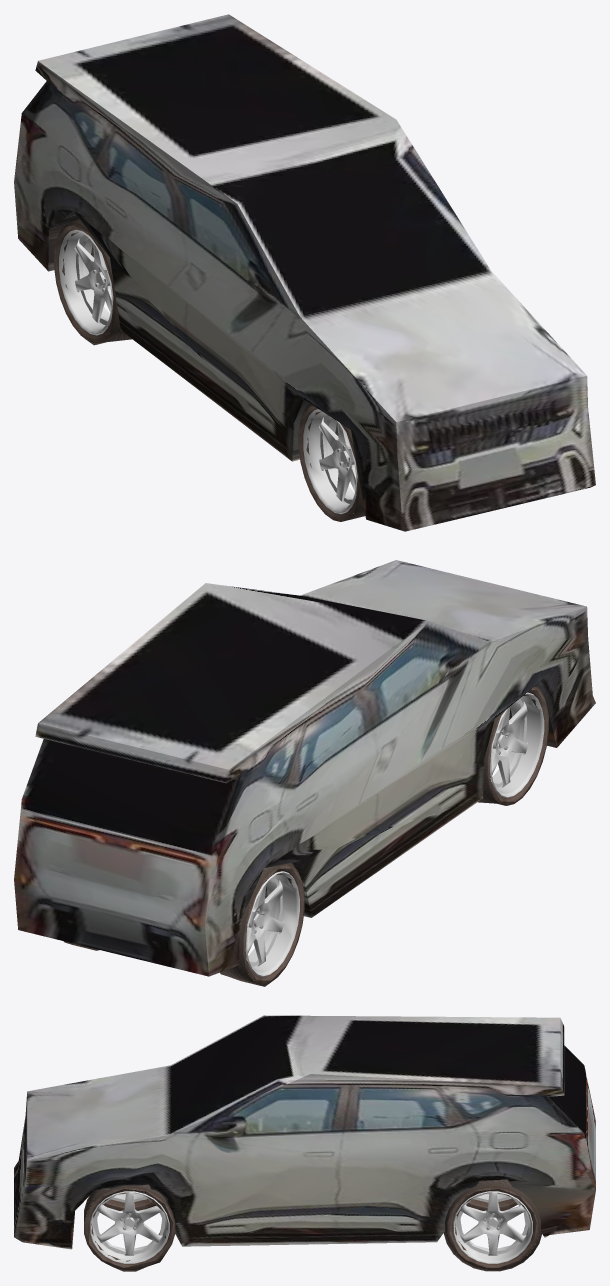
File: seltos_lod.glb
3 renders of one model, top to bottom at view 1: azimuth 30°, elevation 25°; view 2: azimuth 150°, elevation 25°; view 3: azimuth 270°, elevation 25°, orthographic. The views are drawn at different scales.
Visible parts, largest first — view 1: Object_6, Object_8, Object_4, Object_10; view 2: Object_6, Object_8, Object_4, Object_10; view 3: Object_6, Object_8, Object_4, Object_10.
Part boxes in pixels (left/top/right/bottom): Object_6: left=14, top=14, right=595, bottom=531; Object_8: left=59, top=229, right=357, bottom=514; Object_4: left=54, top=222, right=359, bottom=521; Object_10: left=73, top=219, right=365, bottom=521; Object_6: left=14, top=560, right=595, bottom=976; Object_8: left=245, top=692, right=544, bottom=976; Object_4: left=243, top=686, right=548, bottom=984; Object_10: left=63, top=687, right=542, bottom=986; Object_6: left=14, top=1015, right=595, bottom=1249; Object_8: left=90, top=1191, right=532, bottom=1263; Object_4: left=84, top=1186, right=538, bottom=1269; Object_10: left=84, top=1179, right=541, bottom=1271.
Bounding box in the file's own units: 0.2106 × 0.2757 × 0.7336.
5 materials, 4 textured.
